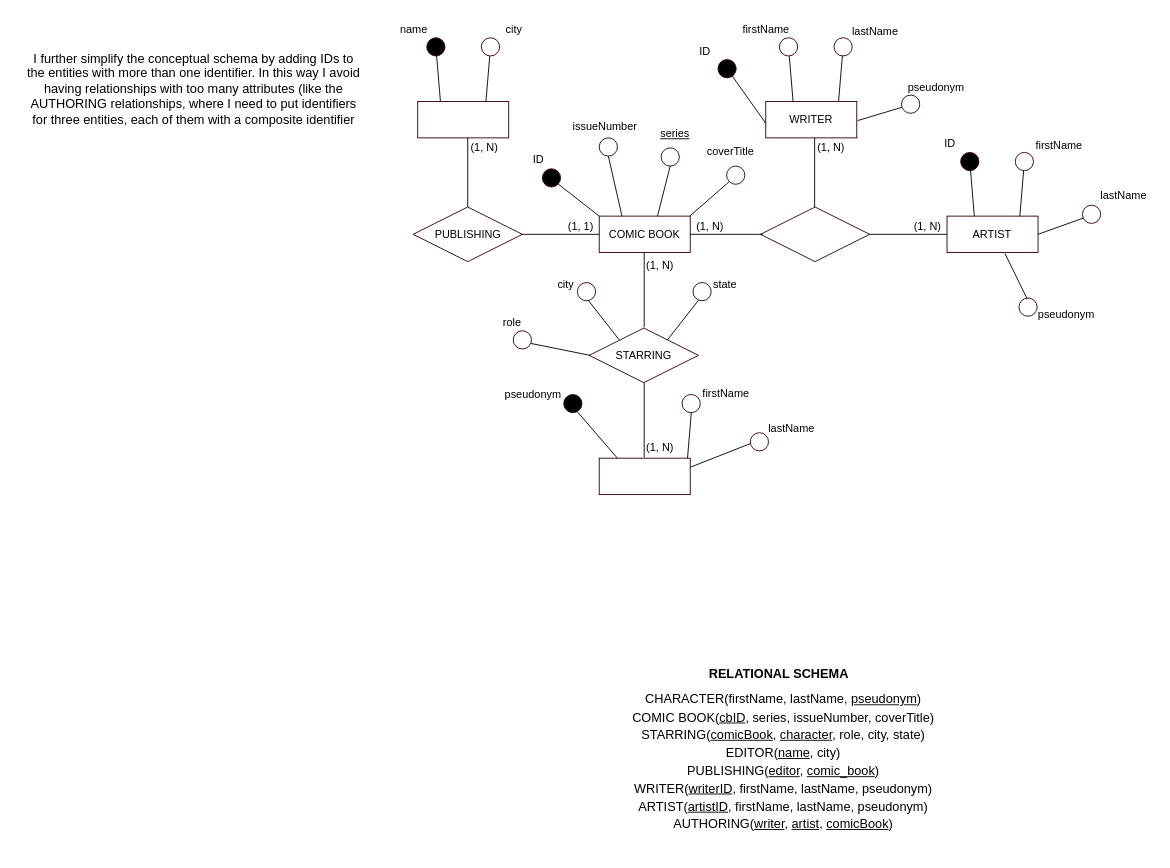
Some shapes in this 1170 by 868 pixel diagram are drawn without their labels. Each missing label, with the centre of its shape:
"AUTHORING" goes at [815,234].
"CHARACTER" goes at [644,476].
"EDITOR" goes at [463,119].
